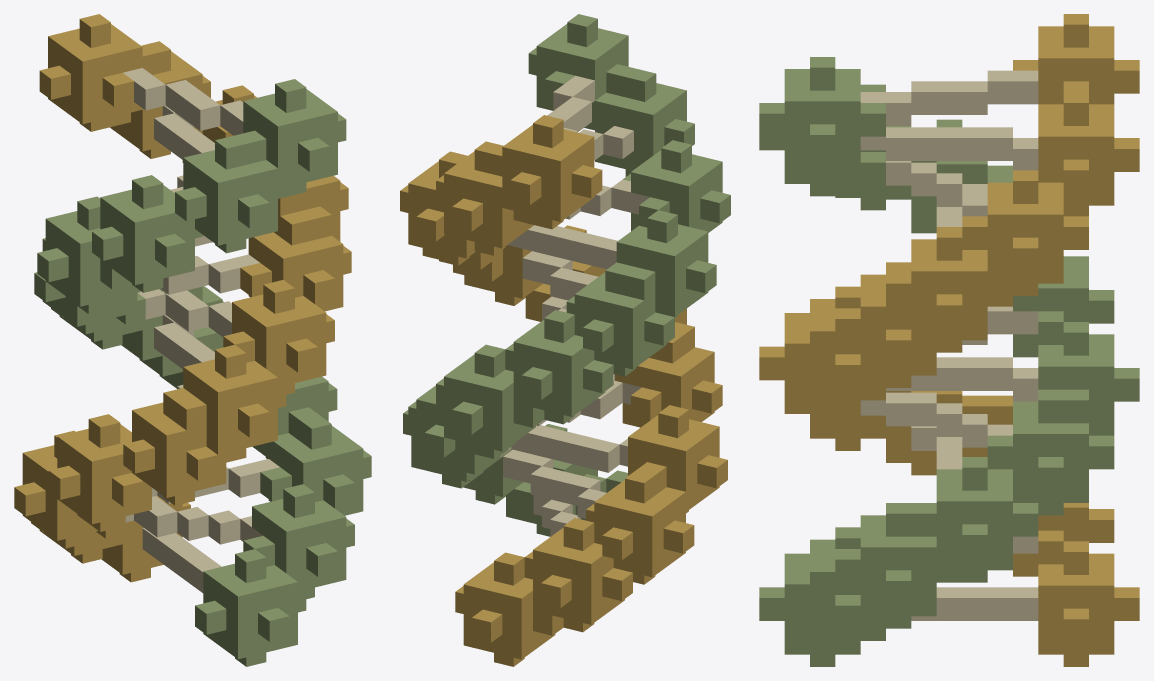
File: biotech-01.glb
The picture shows the model from 3 angles, left to right: view 1: azimuth 30°, elevation 25°; view 2: azimuth 150°, elevation 25°; view 3: azimuth 270°, elevation 25°; orthographic projection. The views are drawn at different scales.
Visible parts, largest first — view 1: DNA helix; view 2: DNA helix; view 3: DNA helix.
Part boxes in pixels (x1,y1,x2,y2): DNA helix: (14,14,371,666); DNA helix: (400,14,730,666); DNA helix: (759,14,1139,666).
Bounding box in the file's own units: 1.2 × 2.16 × 1.2.
